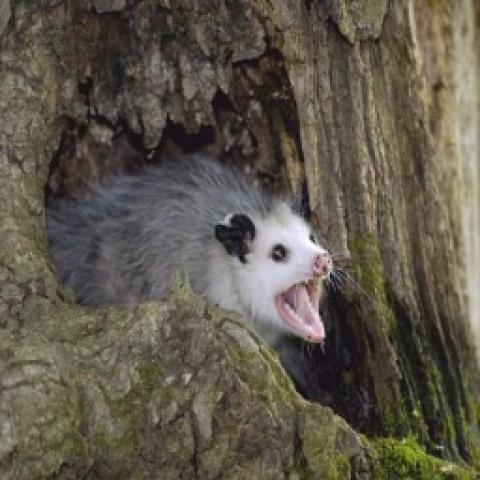small_animal: (43, 166, 338, 348)
